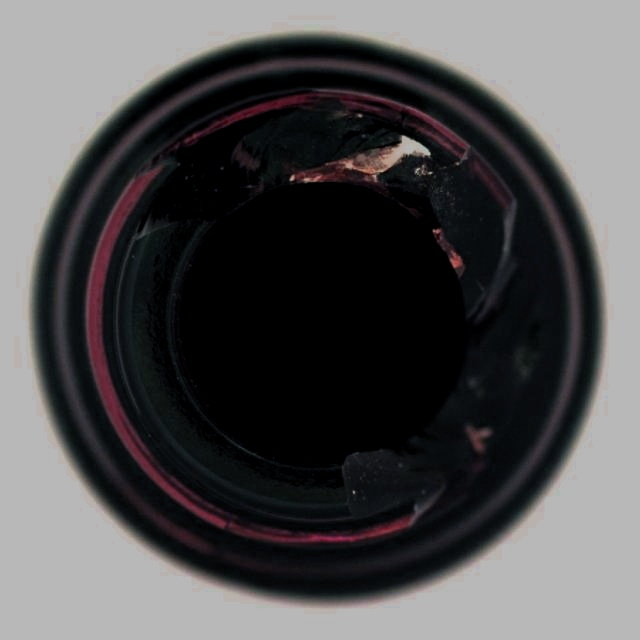bad-broken_large: (29, 34, 608, 609)
